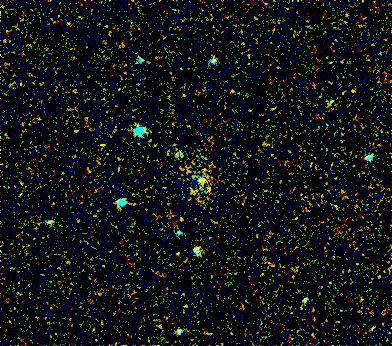star: (186, 166, 216, 196)
